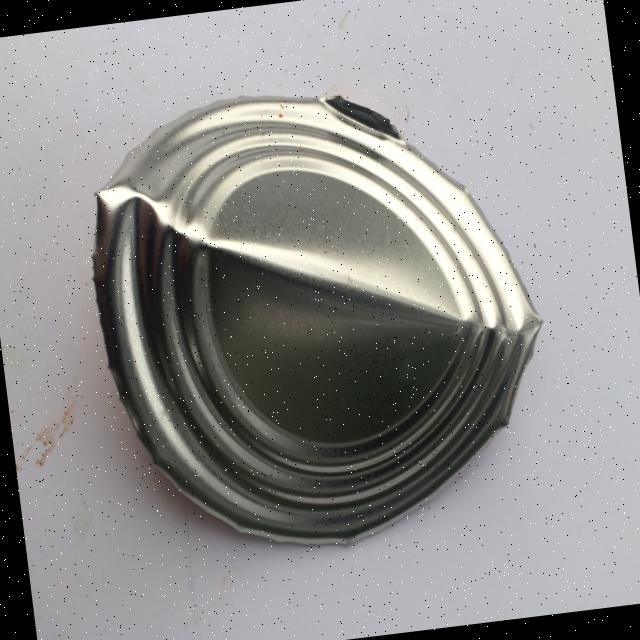metal: (70, 60, 566, 572)
